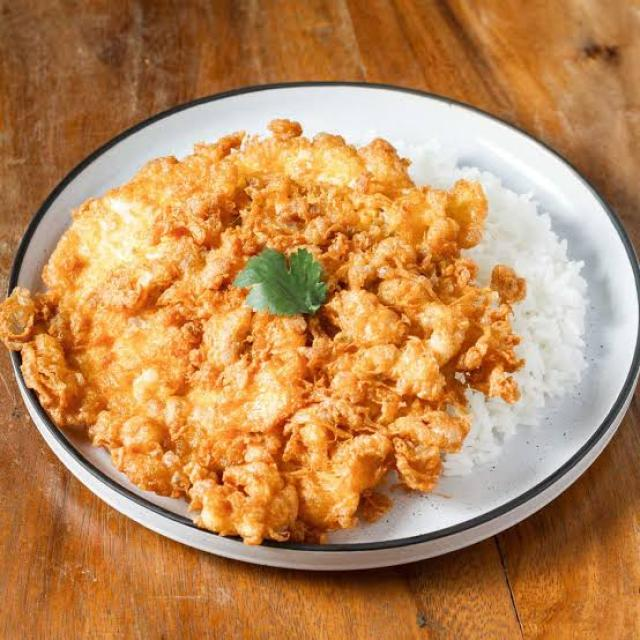carb: (442, 158, 609, 458)
meat: (58, 137, 443, 503)
omelette rice: (18, 70, 630, 558)
vegetable: (248, 231, 332, 315)
